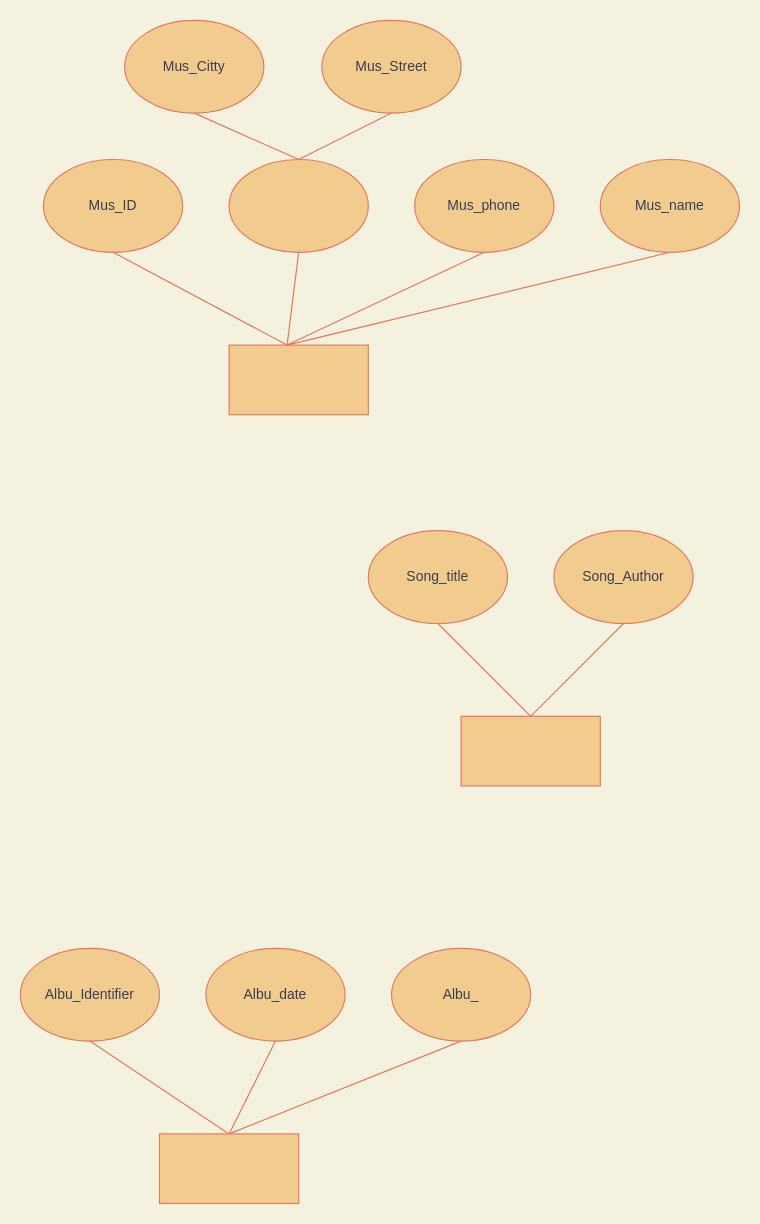
The diagram is 760 pixels wide and 1224 high, and some of its shapes have lost their labels. The box of each missing label's shape, as (x1, y1, x2, y2) in pixels:
Album: (158, 1133, 299, 1204)
Mus_Addredd: (228, 158, 368, 252)
Musician: (228, 344, 368, 415)
Song: (460, 715, 600, 786)
